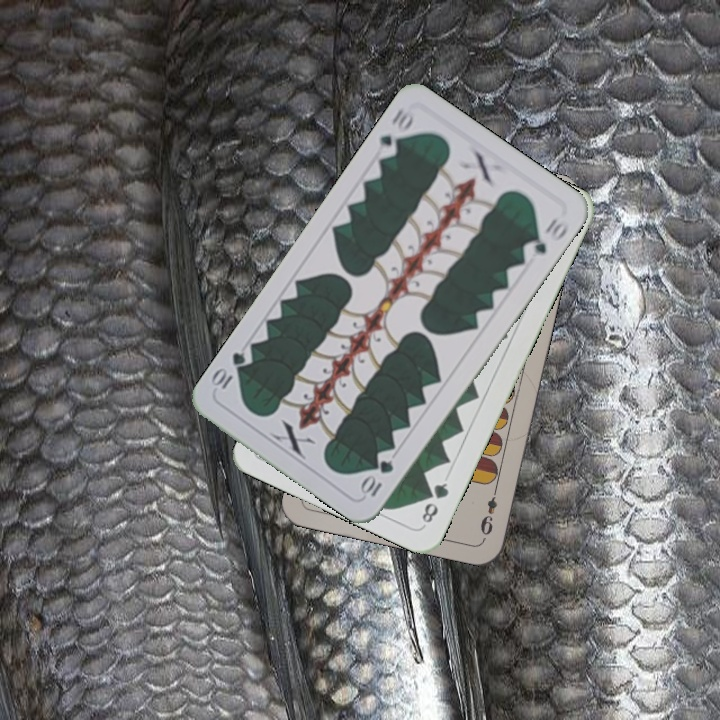E9: (476, 482, 501, 538)
G10: (372, 104, 418, 161), (357, 456, 397, 500)
G8: (417, 478, 451, 526)
